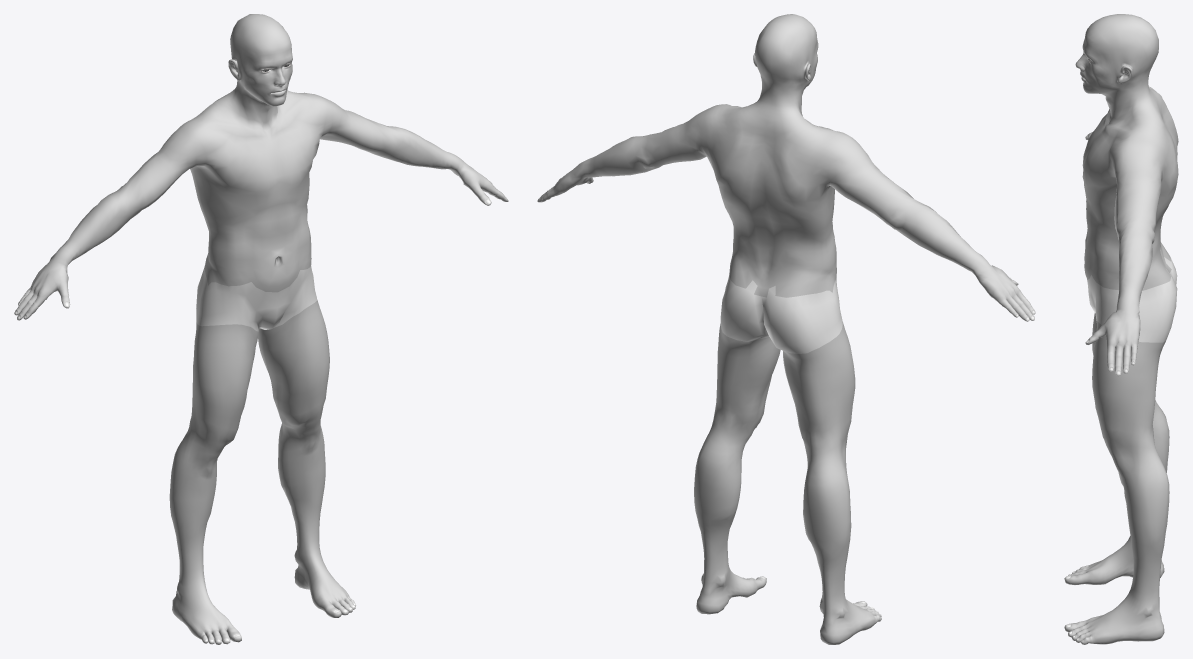
File: cuerpo.gltf
The picture shows the model from 3 angles, left to right: view 1: azimuth 30°, elevation 25°; view 2: azimuth 150°, elevation 25°; view 3: azimuth 270°, elevation 25°; orthographic projection.
Visible parts, largest first — view 1: m_ca01; view 2: m_ca01; view 3: m_ca01.
Part boxes in pixels (x1=…): m_ca01: x1=14, y1=14, x2=508, y2=644; m_ca01: x1=537, y1=14, x2=1035, y2=644; m_ca01: x1=1064, y1=14, x2=1178, y2=644.
Size of the model in its own units: 1.59 by 1.83 by 0.3205.
Materials: 10 (1 with a texture image).
